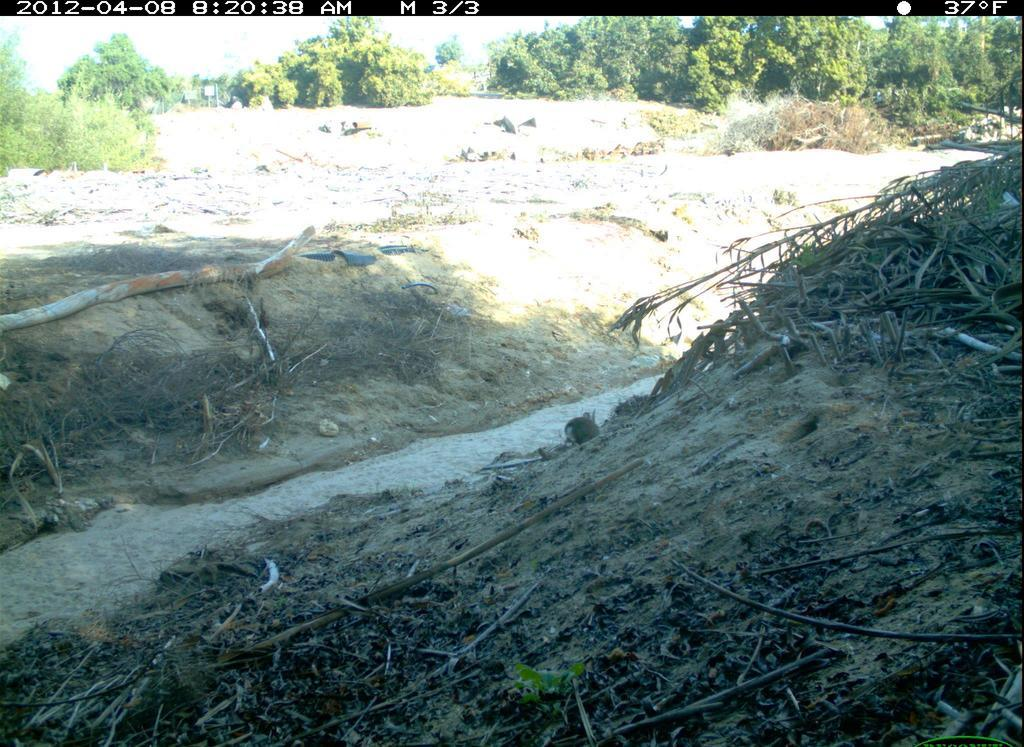rabbit: (556, 404, 608, 453)
